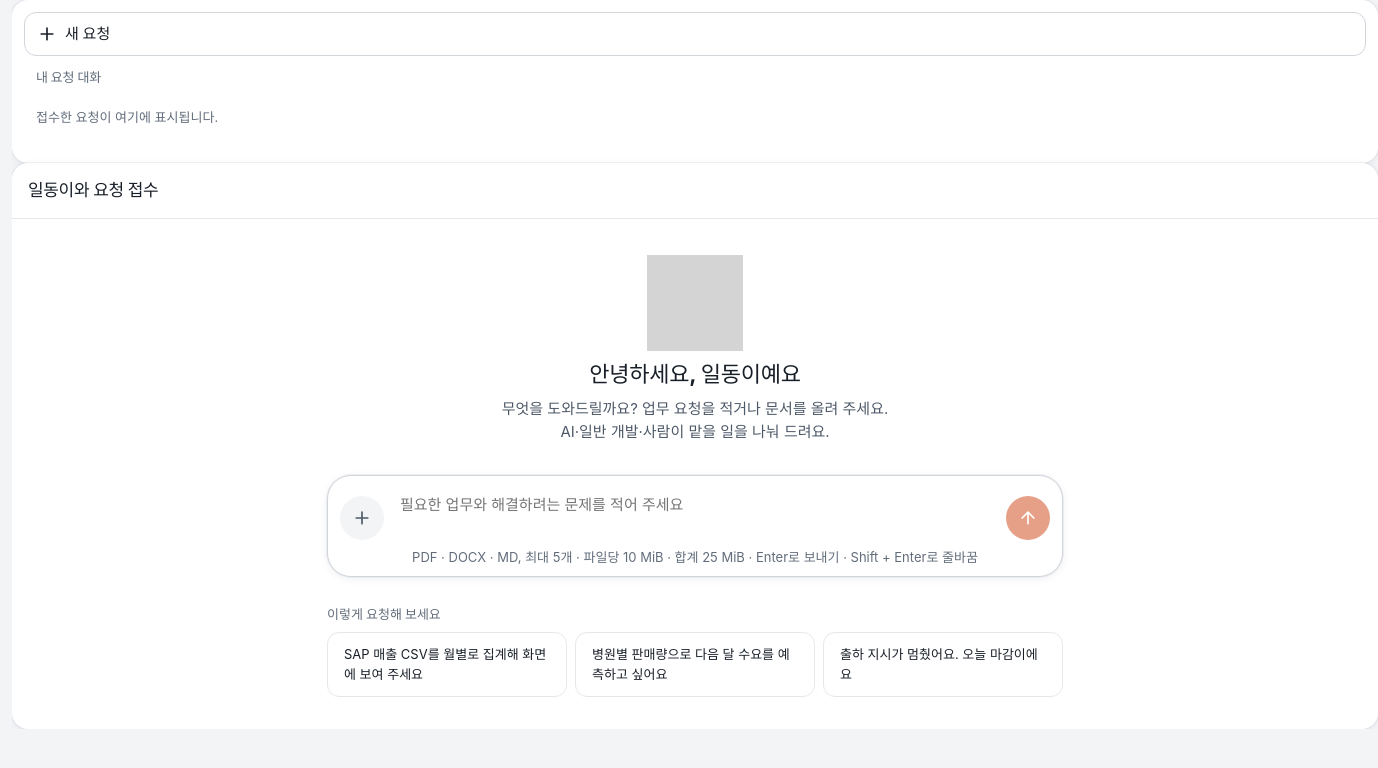
Test: conversation state transitions › shows the long-wait message after 5 seconds without a result
Type "챗봇을 도입하고 싶습니다" into the text box named "요청 내용" at (695, 512), box [392,484,998,540]
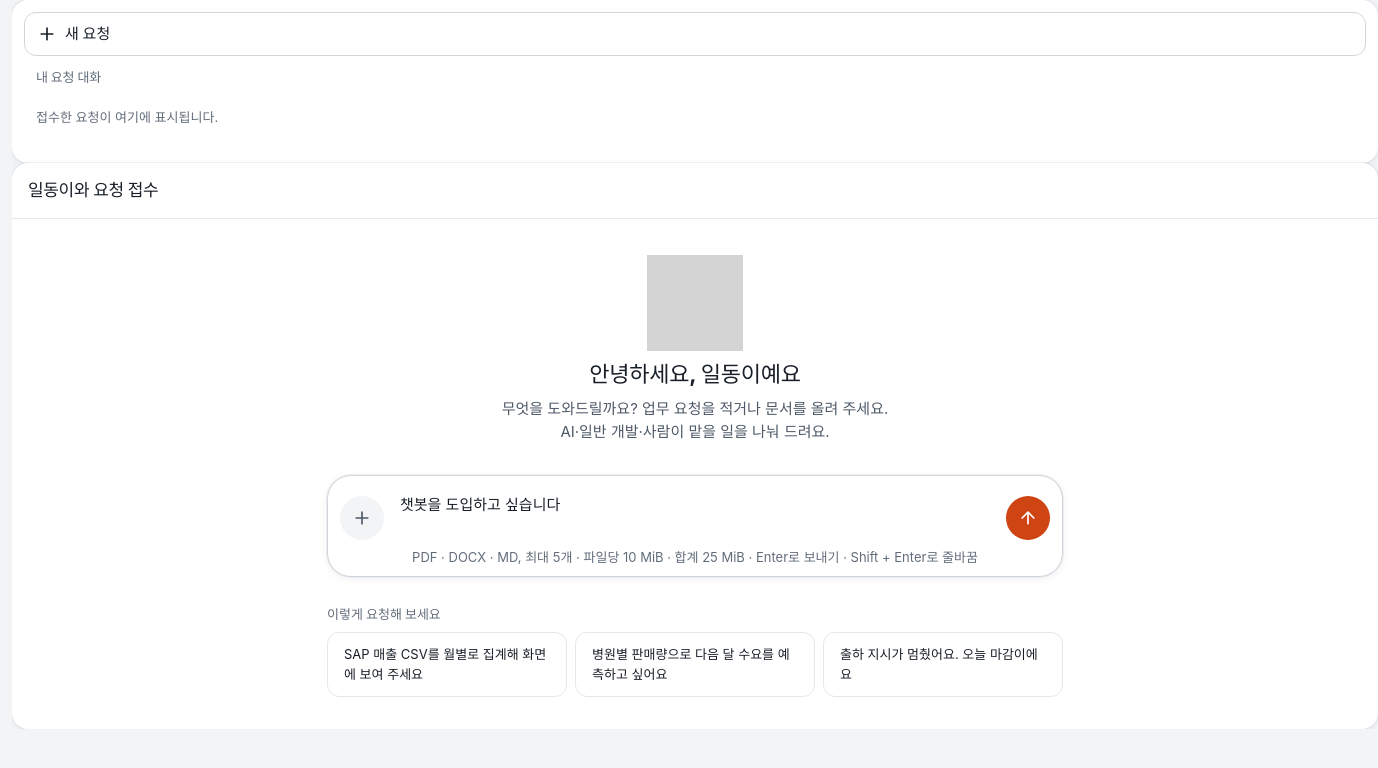
Click the button named "요청 보내기" at (1028, 518), box [1006,496,1050,540]
Wait 5100 ms
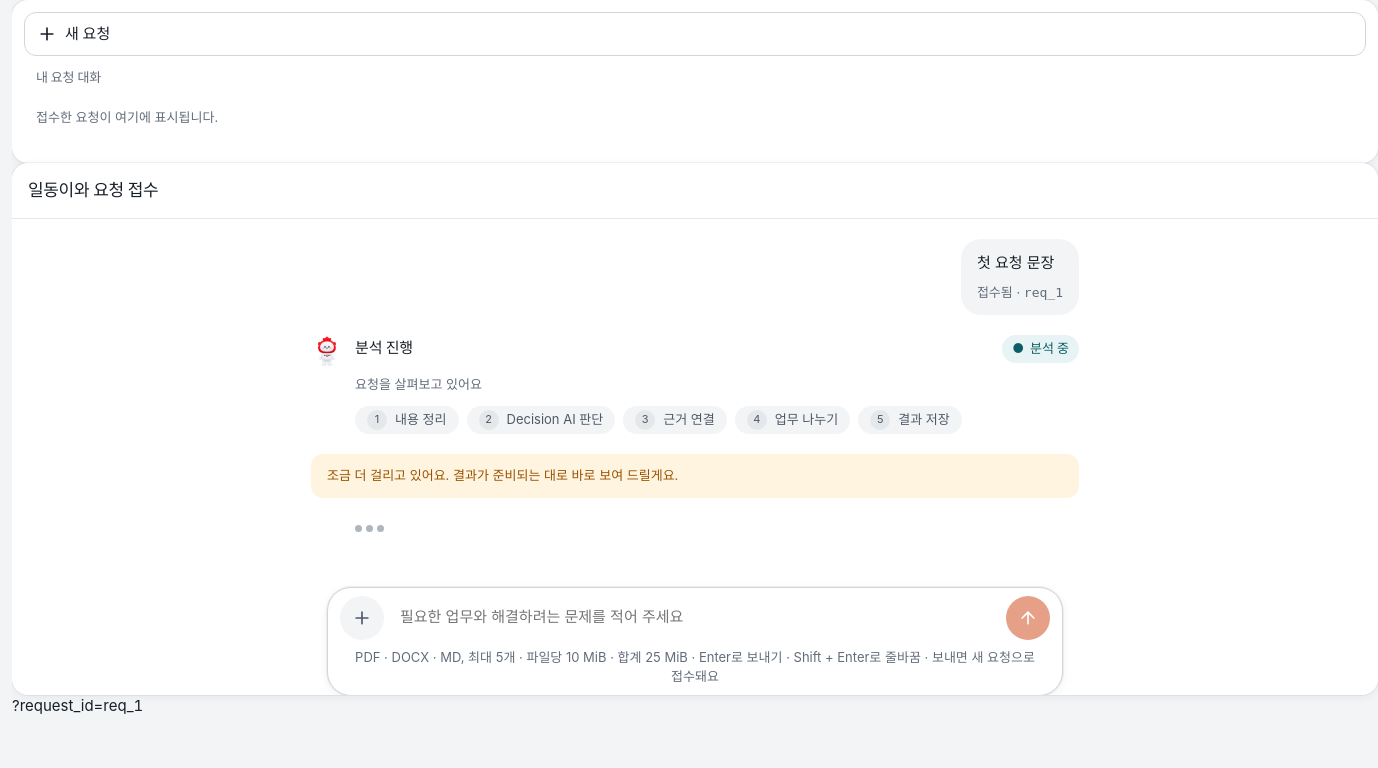
Check: the element "분석 진행" is shown, box [311,334,1079,434]
Check: the text "조금 더 걸리고 있어요. 결과가 준비되는 대로 바로 보여 드릴게요." is shown, box [311,454,1079,498]
